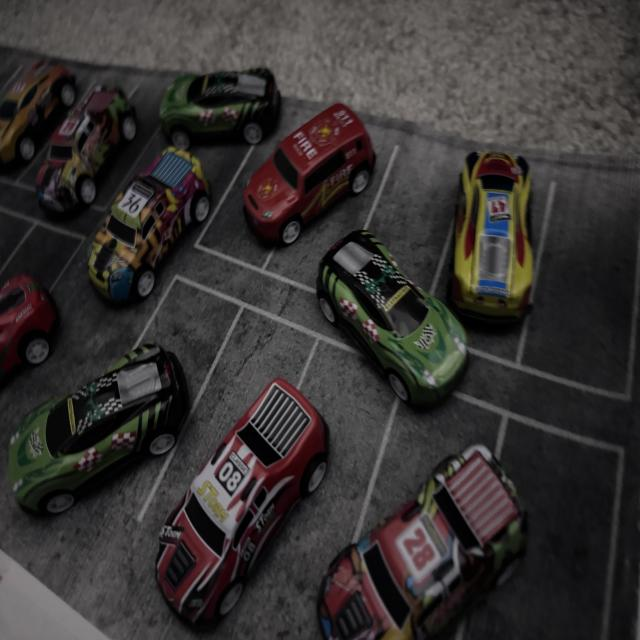car: (124, 358, 361, 616), (298, 424, 552, 640), (0, 316, 197, 538), (274, 214, 462, 408), (241, 115, 390, 283), (142, 12, 280, 165), (0, 266, 75, 448), (39, 97, 134, 234), (453, 125, 518, 287), (108, 133, 174, 288)
